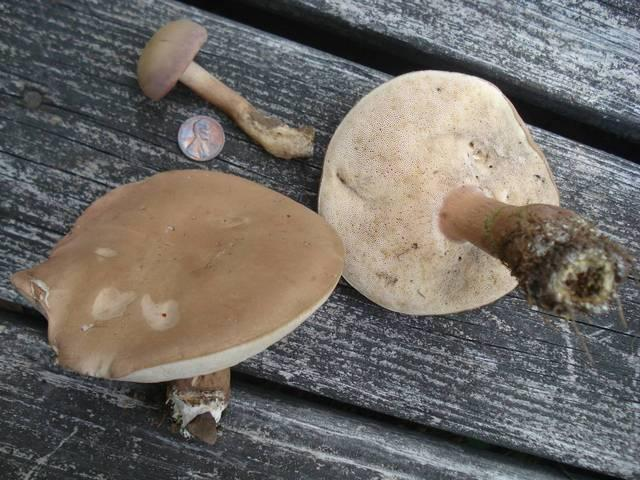poisonous_mushroom: (315, 44, 629, 359), (9, 167, 346, 444), (136, 8, 313, 131)
